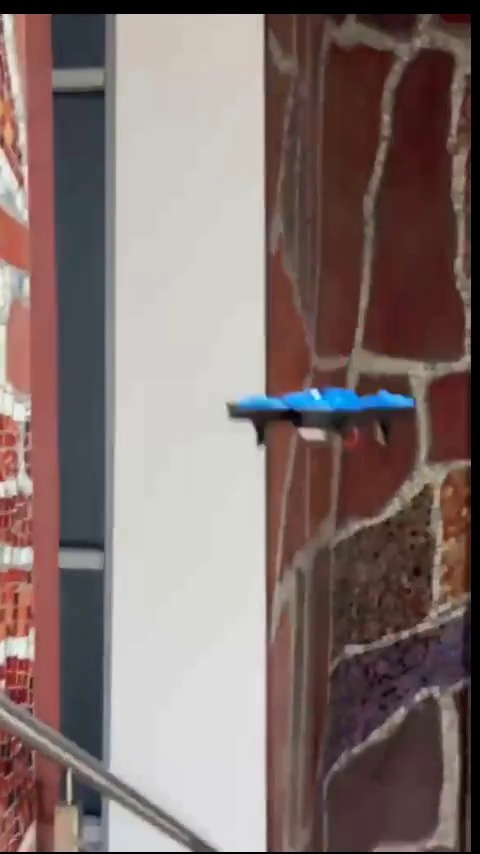drone: (233, 387, 415, 446)
